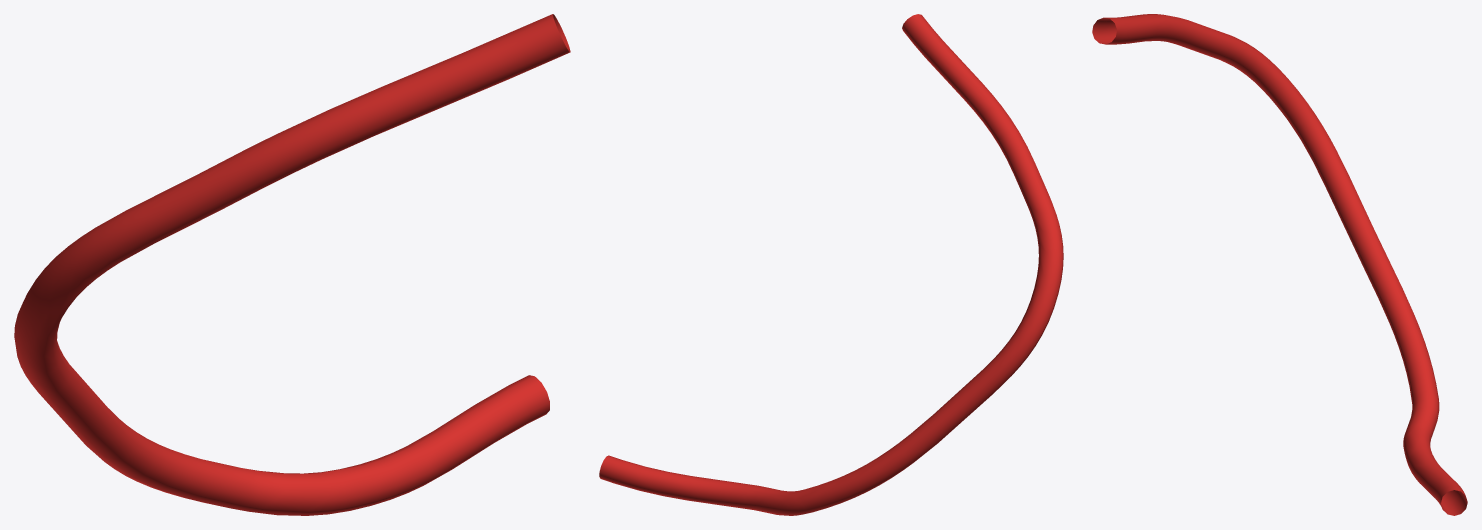
The model's file is circulatorio-dorsal-carpal-branch-of-ulnar-artery-l.glb.
The picture shows the model from 3 angles, left to right: view 1: azimuth 30°, elevation 25°; view 2: azimuth 150°, elevation 25°; view 3: azimuth 270°, elevation 25°; orthographic projection. The views are drawn at different scales.
Visible parts, largest first — view 1: Dorsal carpal branch of ulnar artery.l; view 2: Dorsal carpal branch of ulnar artery.l; view 3: Dorsal carpal branch of ulnar artery.l.
Boxes of the visible parts, box(x1,y1,x2,y2) form: Dorsal carpal branch of ulnar artery.l: box(14, 14, 570, 515); Dorsal carpal branch of ulnar artery.l: box(599, 14, 1063, 515); Dorsal carpal branch of ulnar artery.l: box(1092, 14, 1467, 515).
Size of the model in its own units: 0.0243 by 0.0246 by 0.0195.
